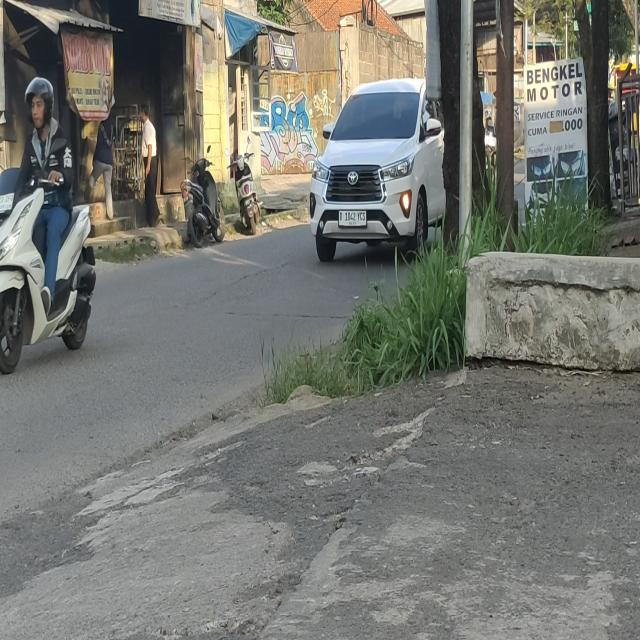helmet: (27, 79, 55, 129)
